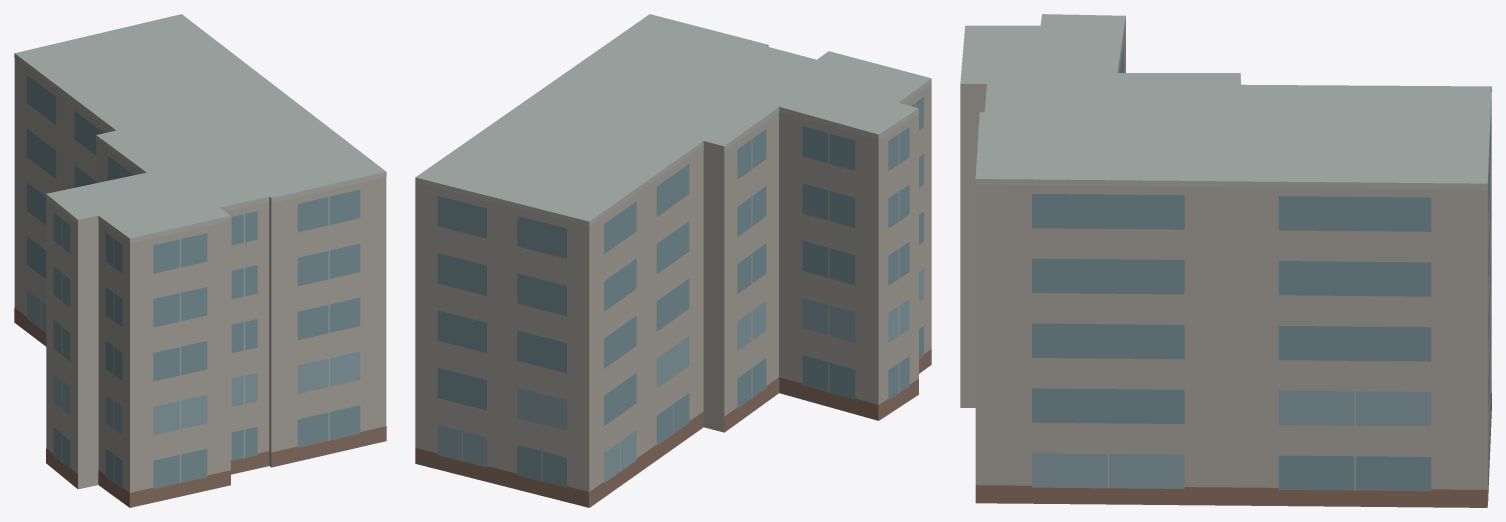
File: survey-upis-32768095.glb
3 renders of one model, left to right at view 1: azimuth 30°, elevation 25°; view 2: azimuth 150°, elevation 25°; view 3: azimuth 270°, elevation 25°, orthographic. The views are drawn at different scales.
Visible parts, largest first — view 1: survey-upis-32768095.tmp; view 2: survey-upis-32768095.tmp; view 3: survey-upis-32768095.tmp.
Boxes of the visible parts, bbox=[...] form: survey-upis-32768095.tmp: bbox=[14, 14, 386, 507]; survey-upis-32768095.tmp: bbox=[415, 14, 931, 507]; survey-upis-32768095.tmp: bbox=[960, 14, 1491, 507].
Size of the model in its own units: 14.93 by 13.3 by 19.76.
